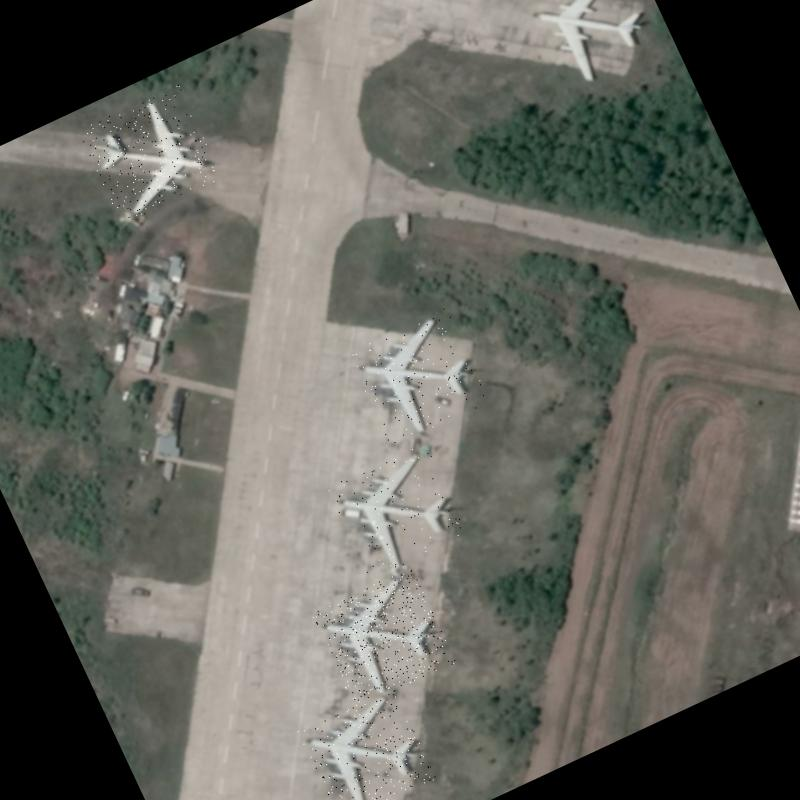A17: (310, 566, 456, 709), (78, 83, 222, 224), (347, 306, 490, 447), (327, 442, 469, 582), (297, 686, 436, 800), (521, 0, 663, 96)
